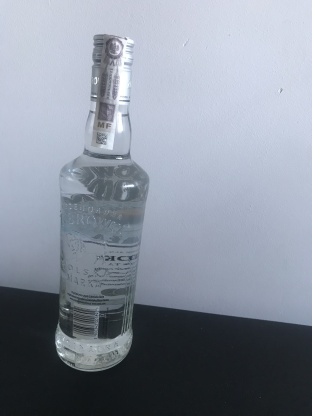nakretka: (88, 30, 136, 109)
